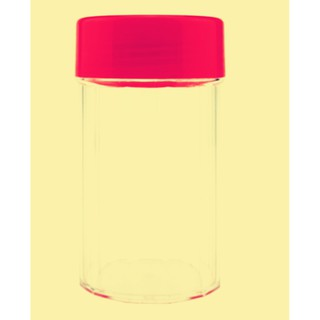medicinejar: (72, 12, 224, 307)
